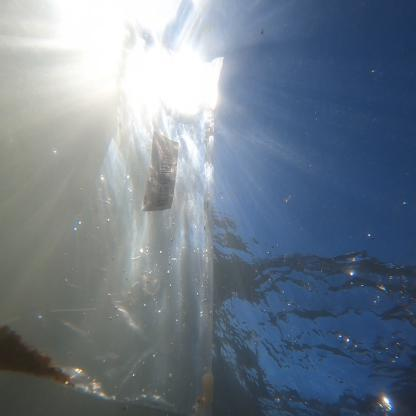Rác: (100, 32, 215, 415)
